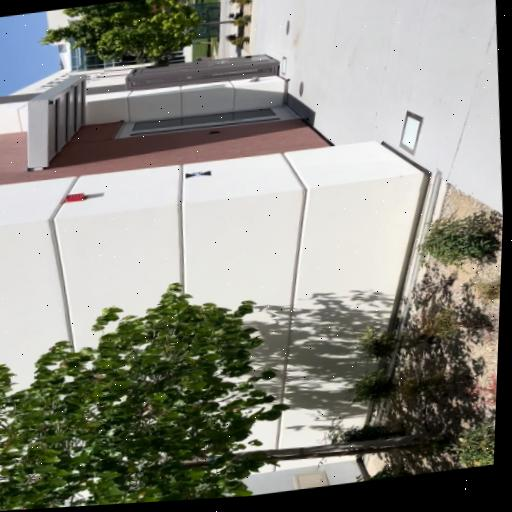target2: (185, 170, 212, 179)
